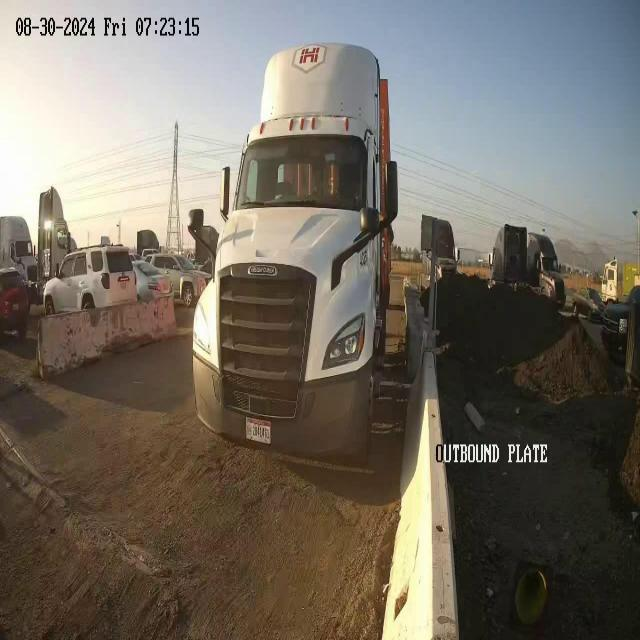TRUCK_CONTAINER: (188, 41, 398, 467)
